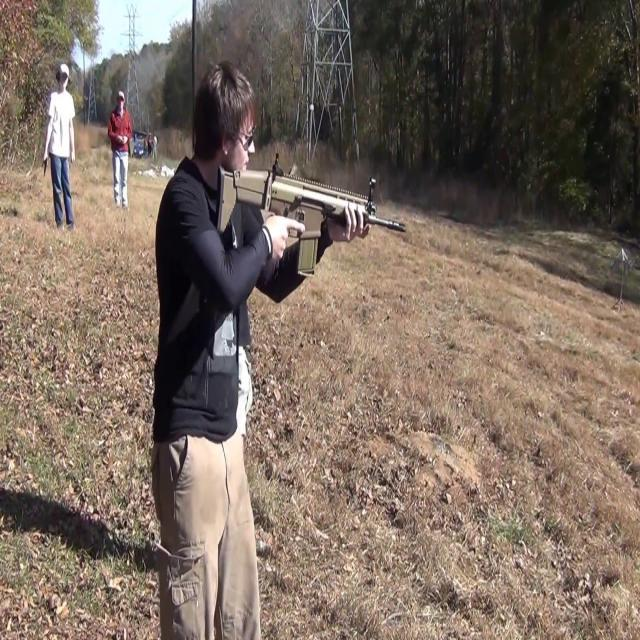Rifle: (212, 147, 410, 287)
